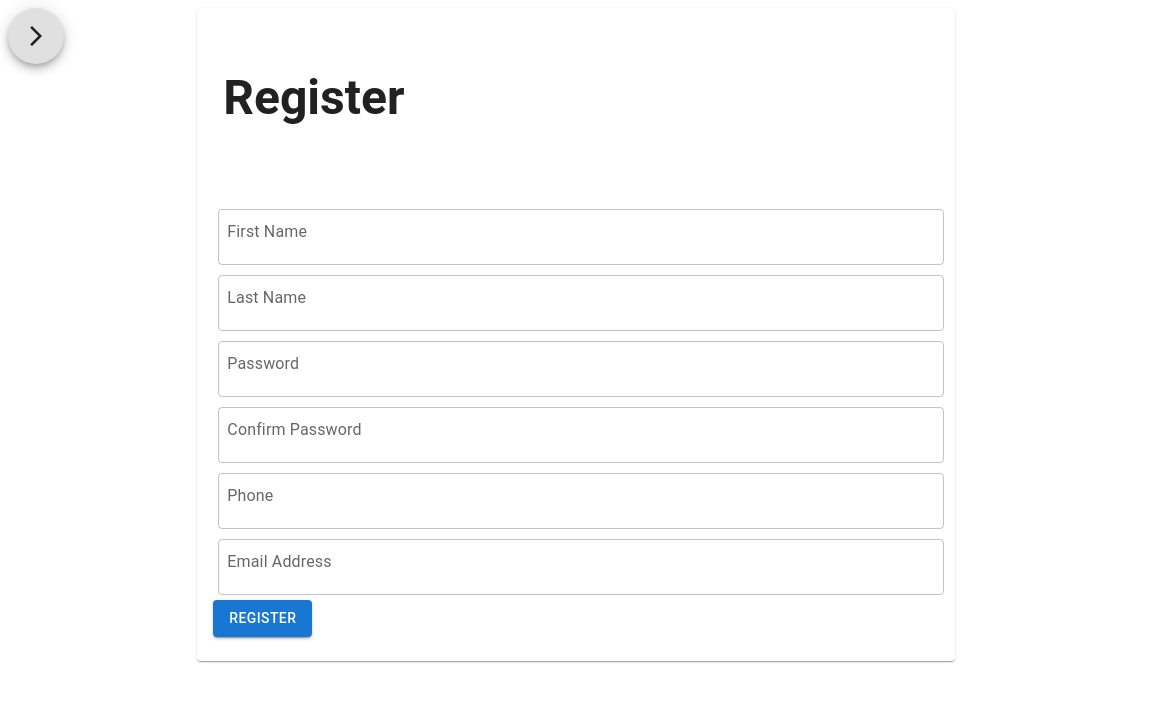
Test case: Register Page › should submit and redirect to Login
Type "John" into the field labelled "First Name" at (581, 237), box [218, 209, 943, 265]
Type "Doe" into the field labelled "Last Name" at (581, 303), box [218, 275, 943, 331]
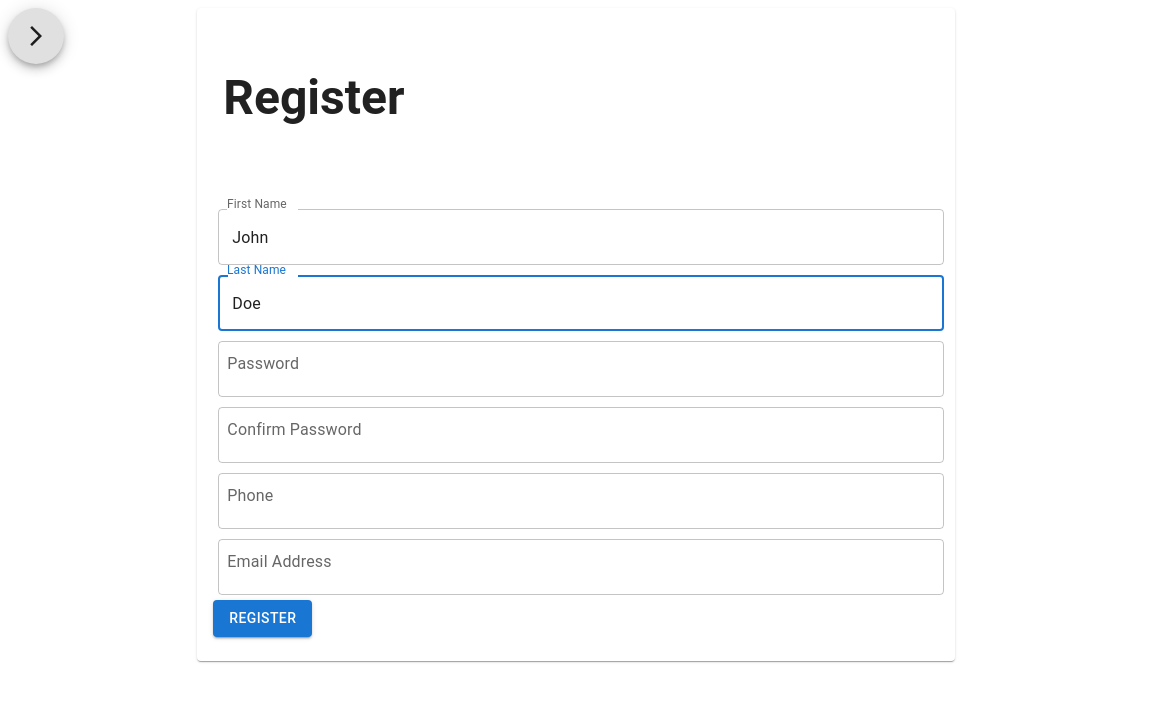
Type "password" into the password field labelled "Password" at (581, 369), box [218, 341, 943, 397]
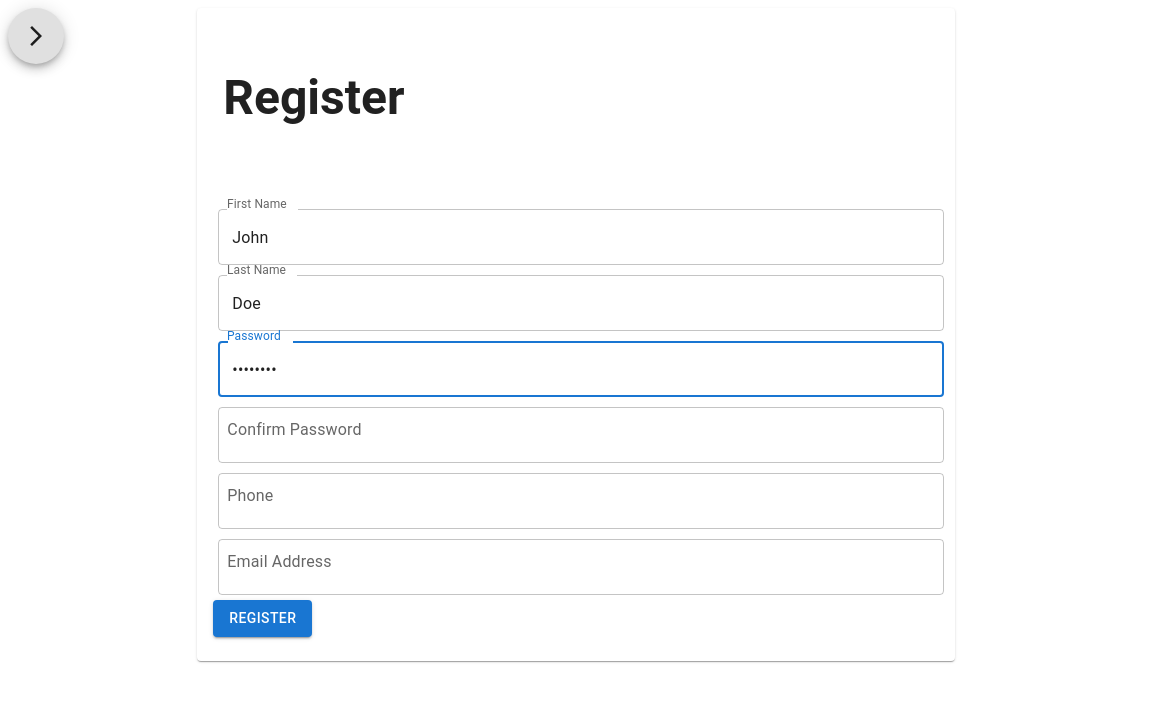
Type "password" into the password field labelled "Confirm Password" at (581, 435), box [218, 407, 943, 463]
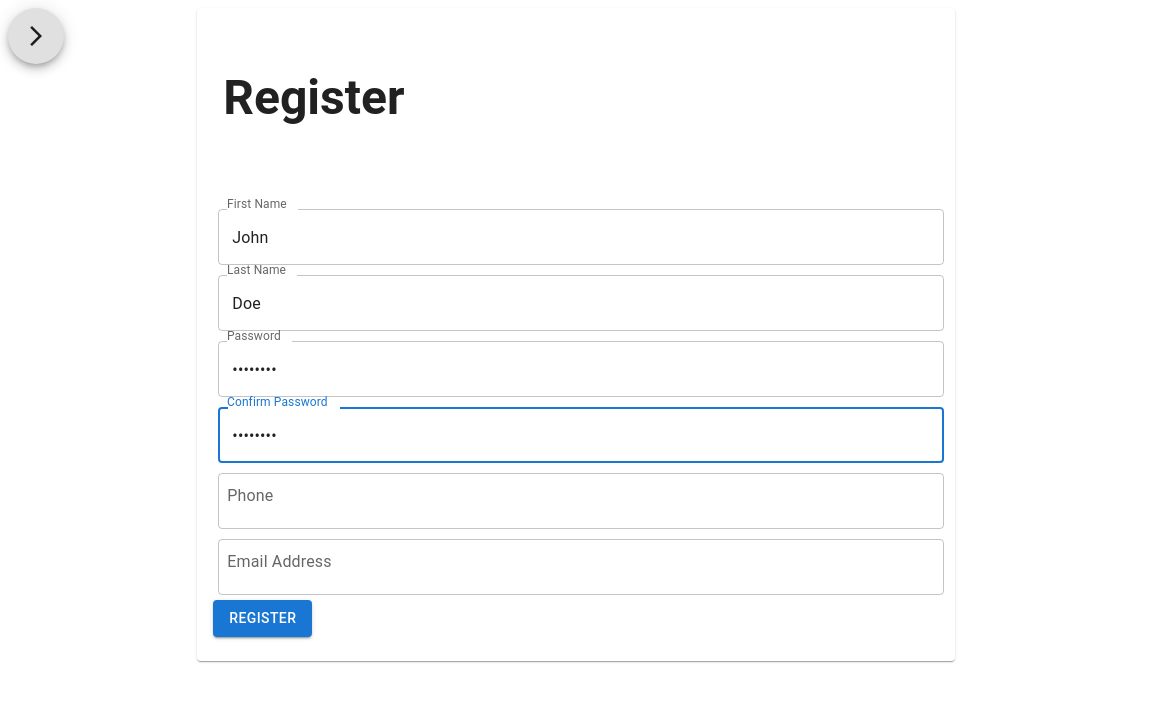
Type "1234567890" into the field labelled "Phone" at (581, 501), box [218, 473, 943, 529]
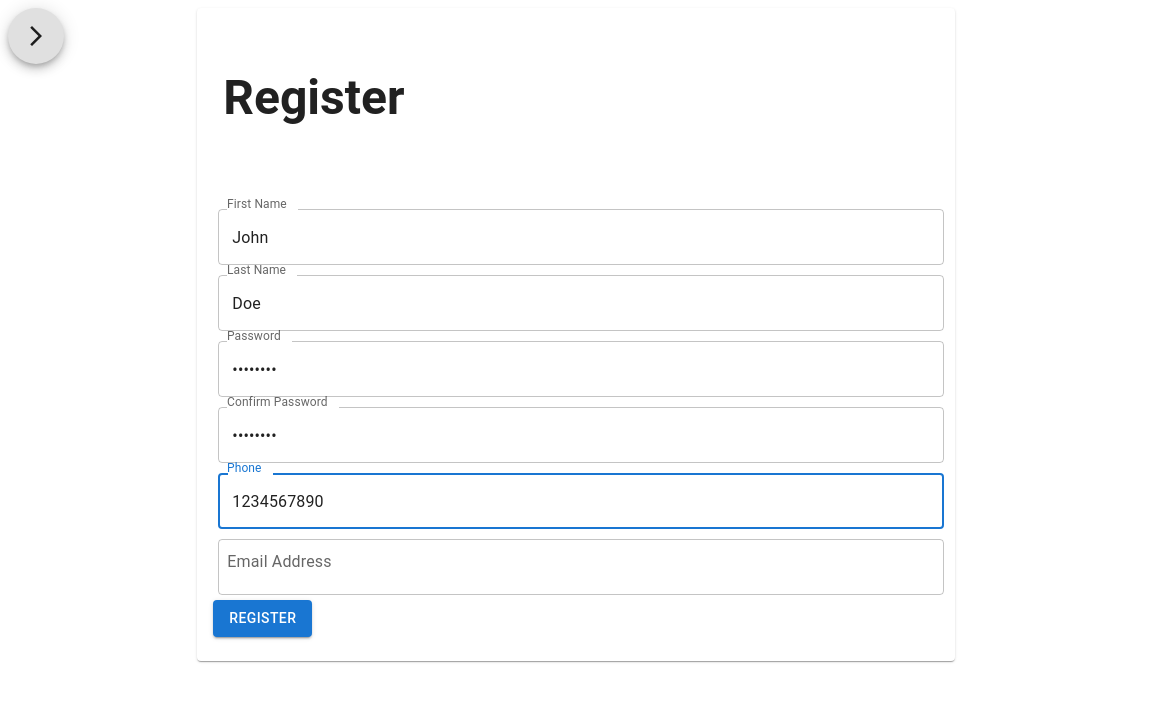
Type "john.doe@gmail" into the field labelled "Email Address" at (581, 567), box [218, 539, 943, 595]
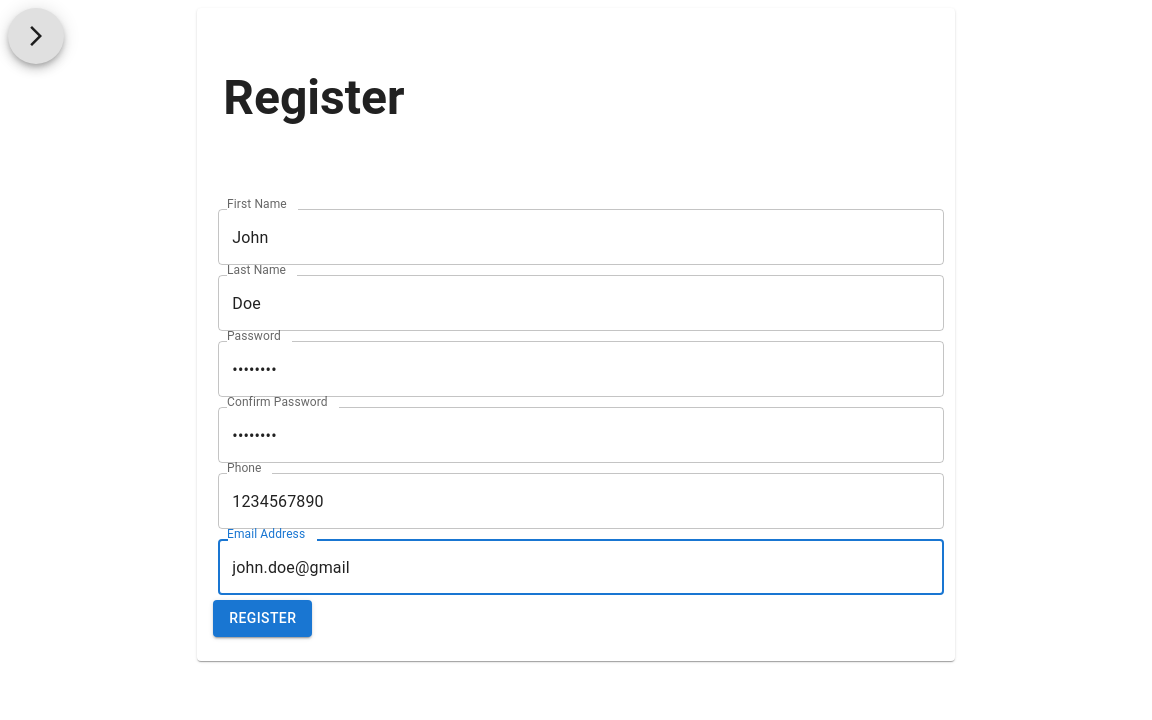
Click the button with id "submit" at (263, 619), box [213, 600, 312, 637]
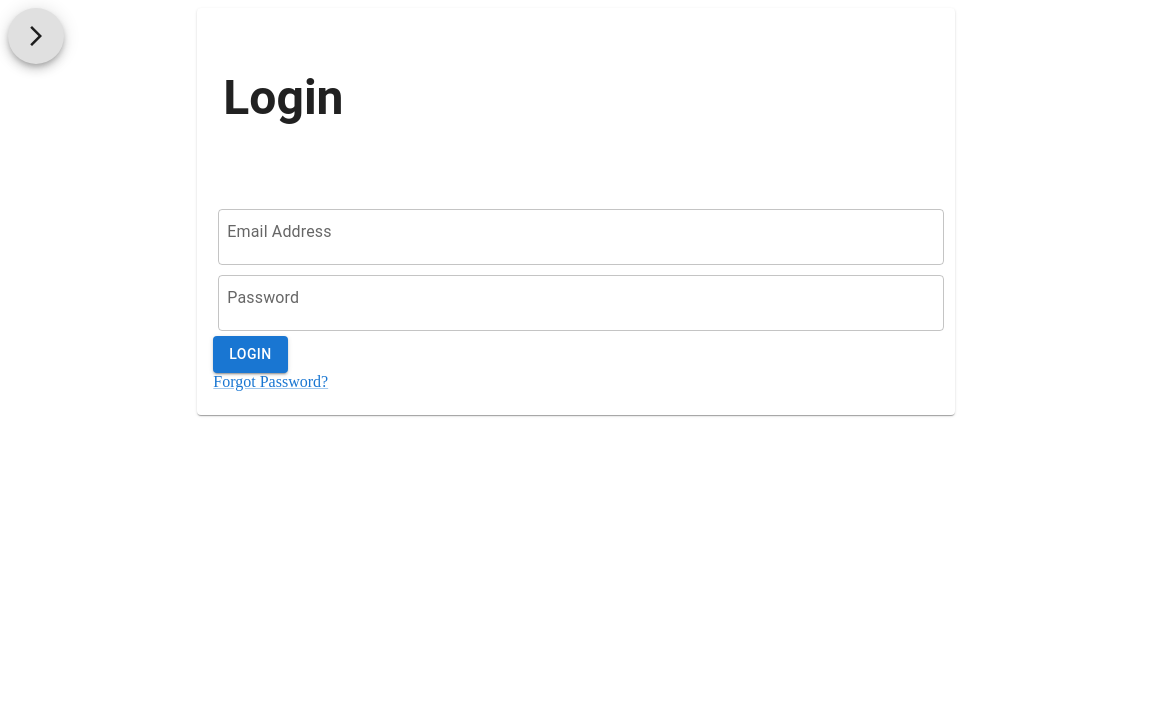
Check: the heading "Login" is shown, box [223, 69, 344, 126]
